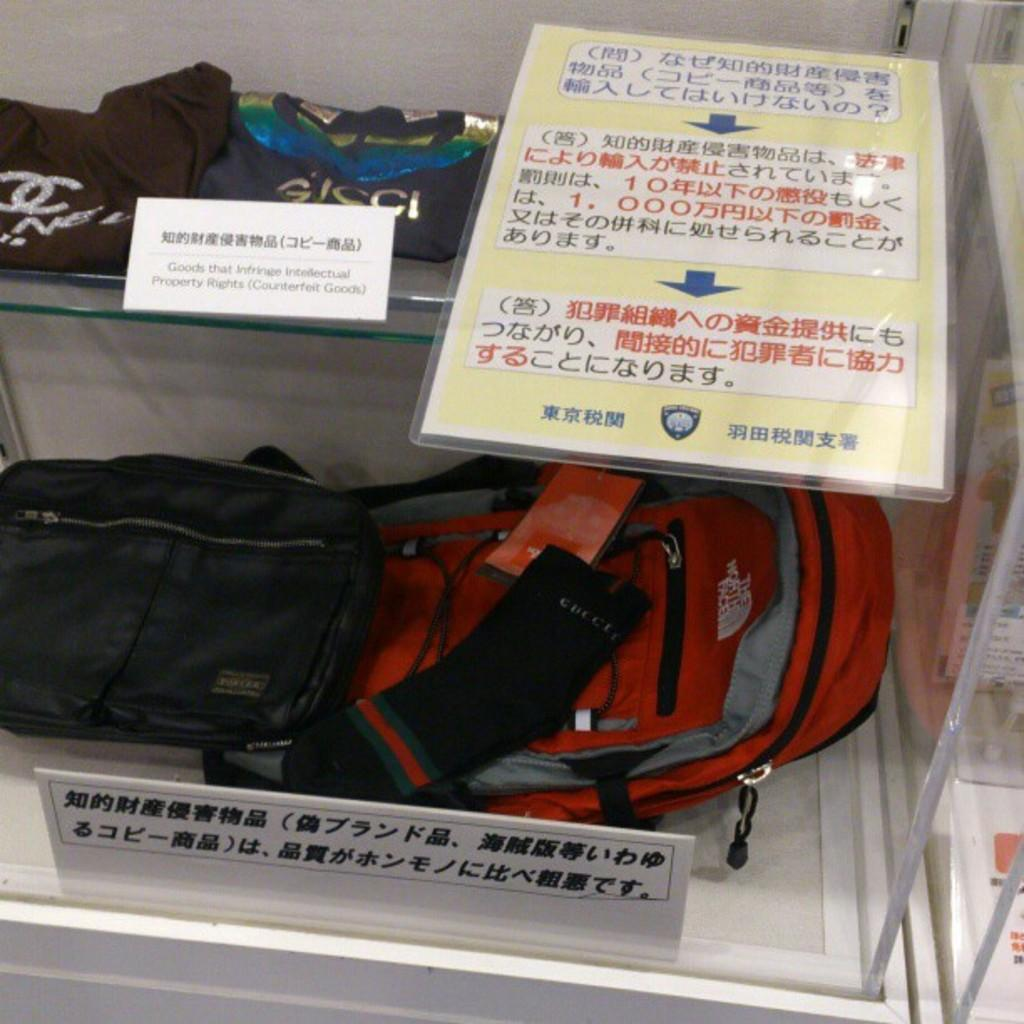Luggage-and-bags: (204, 447, 904, 877), (0, 438, 398, 751)
